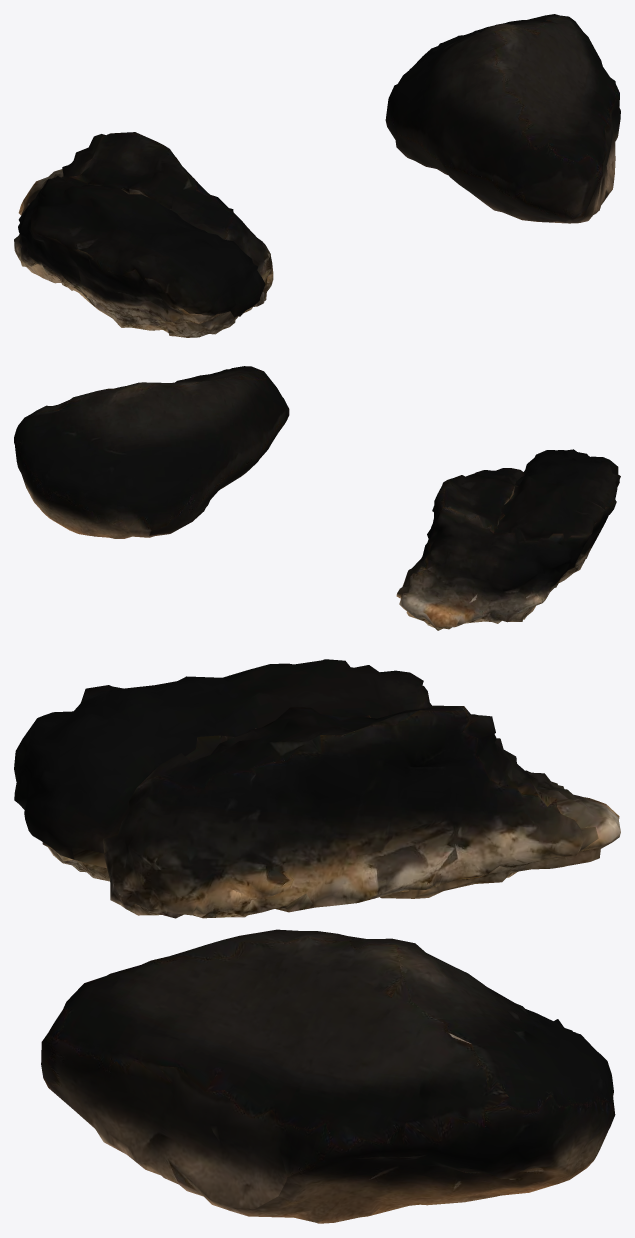
File: rocks-transformed.glb
3 renders of one model, top to bottom at view 1: azimuth 30°, elevation 25°; view 2: azimuth 150°, elevation 25°; view 3: azimuth 270°, elevation 25°, orthographic. The views are drawn at different scales.
Visible parts, largest first — view 1: namaqualand_boulders_01_a_LOD3; view 2: namaqualand_boulders_01_a_LOD3; view 3: namaqualand_boulders_01_a_LOD3.
Part boxes in pixels (box(x1,y1,x2,y2)): namaqualand_boulders_01_a_LOD3: box(14, 14, 620, 337); namaqualand_boulders_01_a_LOD3: box(14, 366, 620, 630); namaqualand_boulders_01_a_LOD3: box(14, 659, 620, 1223).
Size of the model in its own units: 1.06 by 0.2514 by 0.5825.
1 material, 1 textured.
